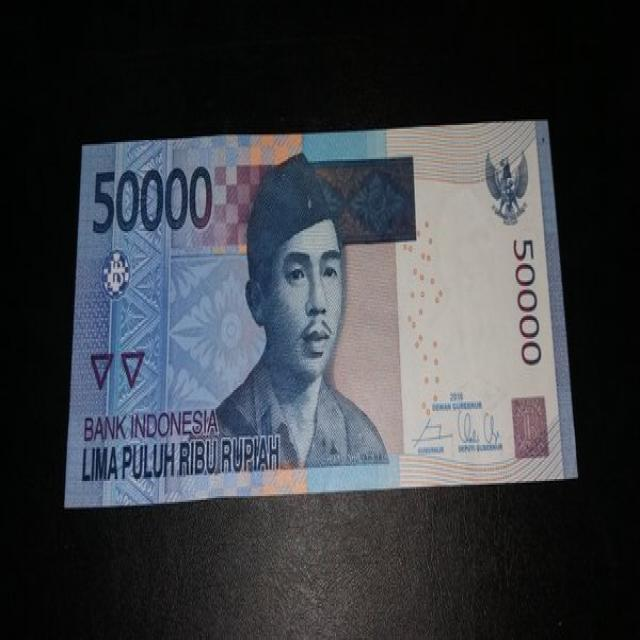lima puluh ribu rupiah: (69, 130, 580, 500)
